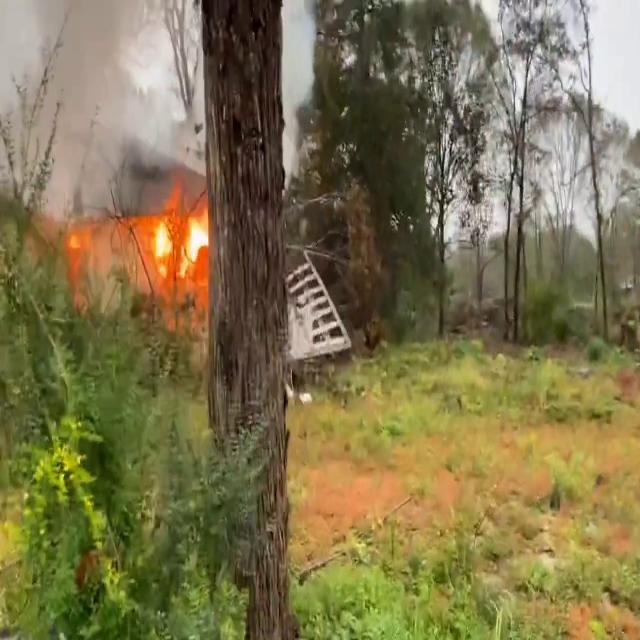Fire: (130, 194, 211, 286)
Smoke: (0, 0, 202, 198)
